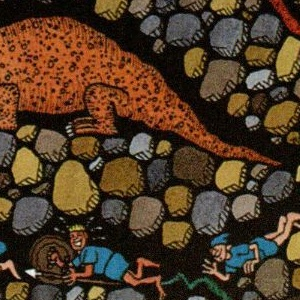Charlie: (84, 56, 216, 244)
